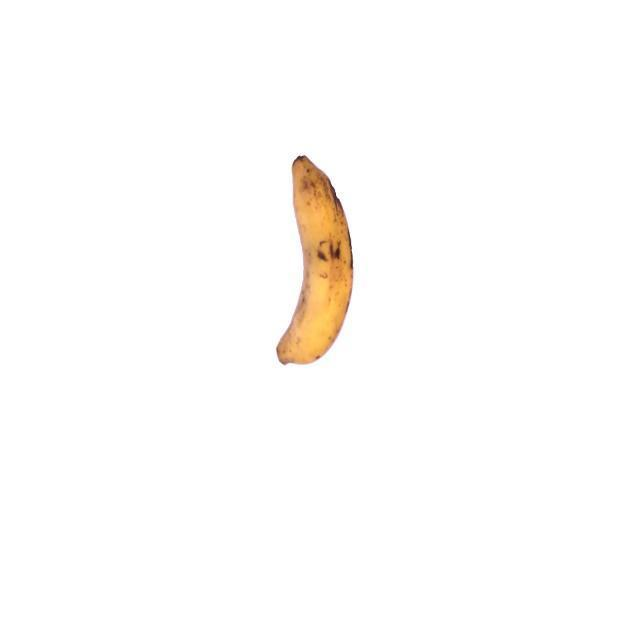Banana: (274, 150, 356, 370)
